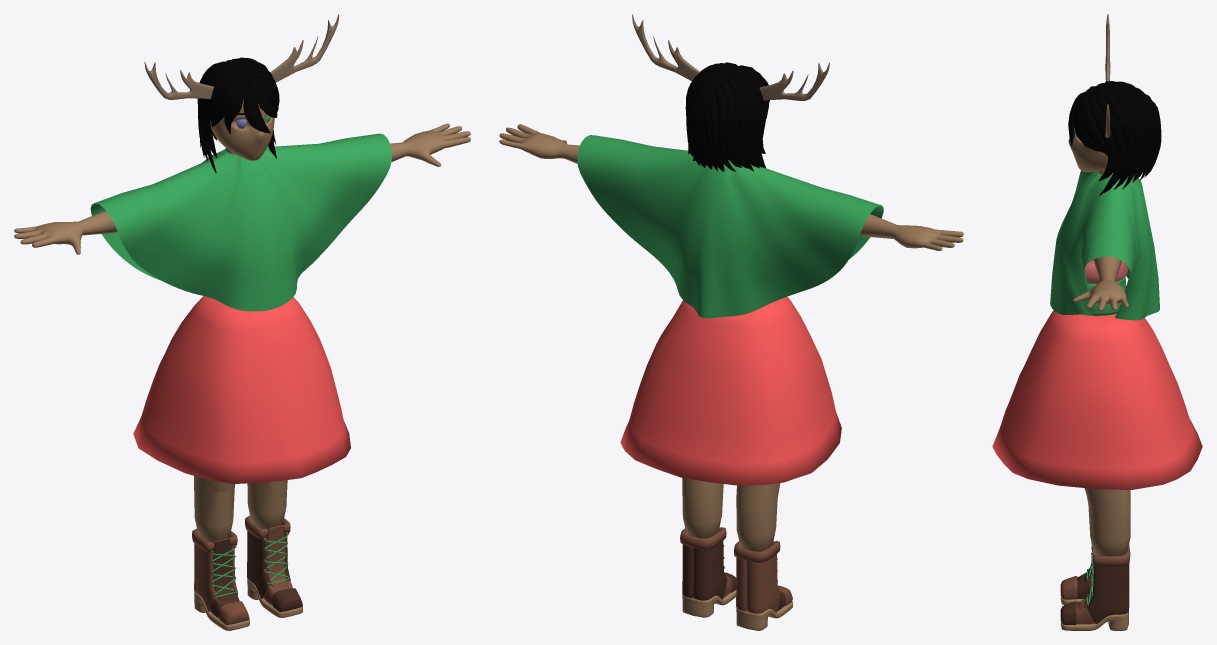
File: Melancia.fbx
3 renders of one model, left to right at view 1: azimuth 30°, elevation 25°; view 2: azimuth 150°, elevation 25°; view 3: azimuth 270°, elevation 25°, orthographic. The views are drawn at different scales.
Parts seen in each view (by area): view 1: Watermelon; view 2: Watermelon; view 3: Watermelon.
Part boxes in pixels (x1,y1,x2,y2): Watermelon: (14, 14, 470, 630); Watermelon: (499, 14, 963, 630); Watermelon: (992, 14, 1202, 630).
Bounding box in the file's own units: 160 × 193 × 66.5.
